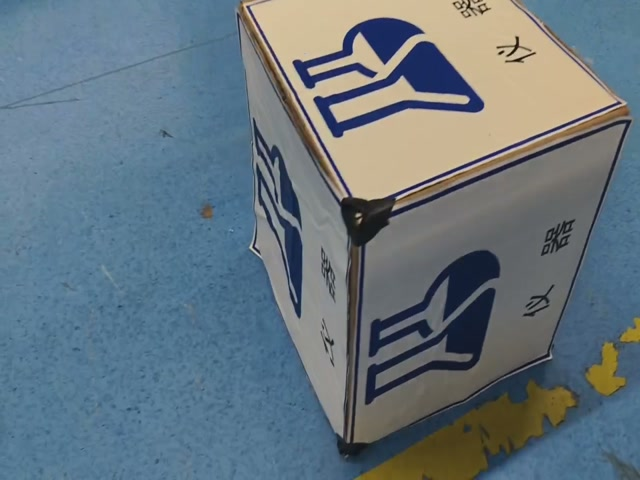Cube_ins: (232, 0, 632, 216)
